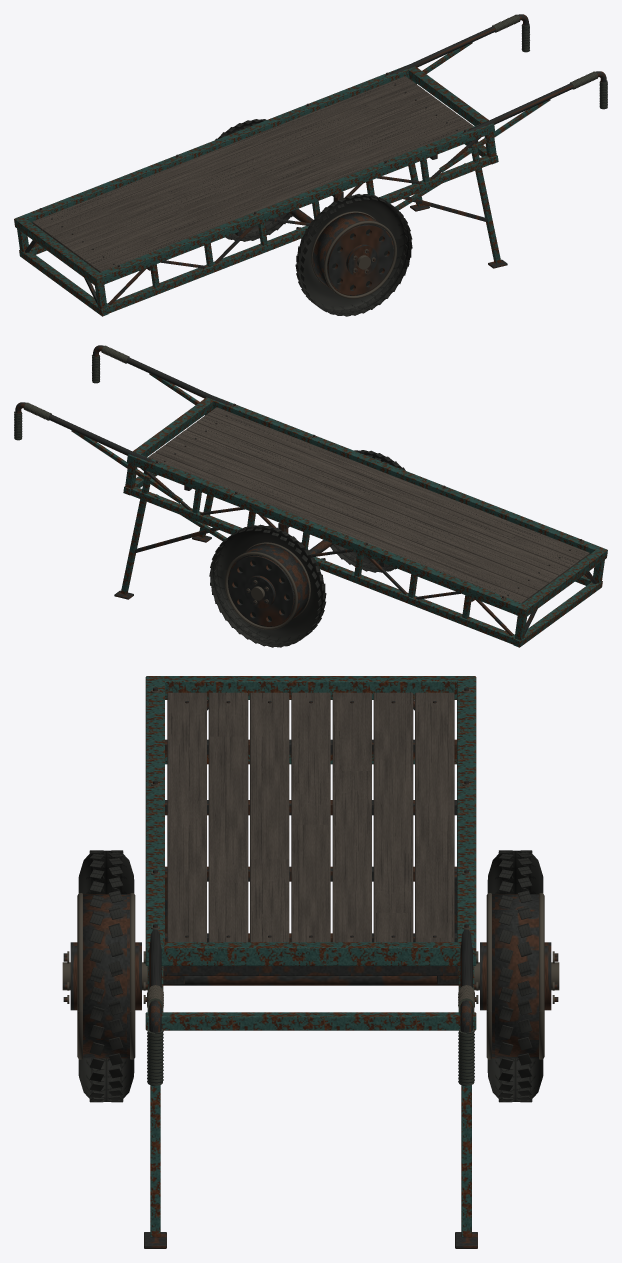
Rendered from Handcart.glb.
The picture shows the model from 3 angles, top to bottom: view 1: azimuth 30°, elevation 25°; view 2: azimuth 150°, elevation 25°; view 3: azimuth 270°, elevation 25°; orthographic projection. The views are drawn at different scales.
Visible parts, largest first — view 1: Cart • Deck • weathered timber, Cart • Frame • chipped turquoise and rust, Cart • Tyres • dusty rubber, Cart • Hardware • rusty steel, Right wheel • pressed wheel face.002, Cart • Worn metal edges, Cart • Handle wraps • cloth, Cart • Dark recesses; view 2: Cart • Deck • weathered timber, Cart • Frame • chipped turquoise and rust, Cart • Tyres • dusty rubber, Cart • Hardware • rusty steel, Left wheel • pressed wheel face.003, Cart • Worn metal edges, Cart • Handle wraps • cloth, Cart • Dark recesses; view 3: Cart • Deck • weathered timber, Cart • Frame • chipped turquoise and rust, Cart • Hardware • rusty steel, Cart • Tyres • dusty rubber, Cart • Worn metal edges, Cart • Handle wraps • cloth, Cart • Dark recesses.
Boxes of the visible parts, x1,y1,x2,y2 form: Cart • Deck • weathered timber: (32,76,473,272); Cart • Frame • chipped turquoise and rust: (14,42,550,316); Cart • Tyres • dusty rubber: (215,119,412,316); Cart • Hardware • rusty steel: (25,14,606,304); Right wheel • pressed wheel face.002: (327,224,393,294); Cart • Worn metal edges: (39,14,597,298); Cart • Handle wraps • cloth: (492,14,607,109); Cart • Dark recesses: (332,25,607,289); Cart • Deck • weathered timber: (148,407,589,603); Cart • Frame • chipped turquoise and rust: (71,373,607,647); Cart • Tyres • dusty rubber: (209,450,405,647); Cart • Hardware • rusty steel: (15,345,596,635); Left wheel • pressed wheel face.003: (228,555,294,625); Cart • Worn metal edges: (23,346,582,629); Cart • Handle wraps • cloth: (14,345,129,440); Cart • Dark recesses: (14,354,289,620); Cart • Deck • weathered timber: (167,692,454,942); Cart • Frame • chipped turquoise and rust: (145,676,476,1237); Cart • Hardware • rusty steel: (63,687,558,1248); Cart • Tyres • dusty rubber: (78,850,543,1102); Cart • Worn metal edges: (62,689,559,1059); Cart • Handle wraps • cloth: (147,986,474,1085); Cart • Dark recesses: (147,1030,474,1086).
Size of the model in its own units: 3.39 by 1.07 by 1.42.
7 materials, 4 textured.
